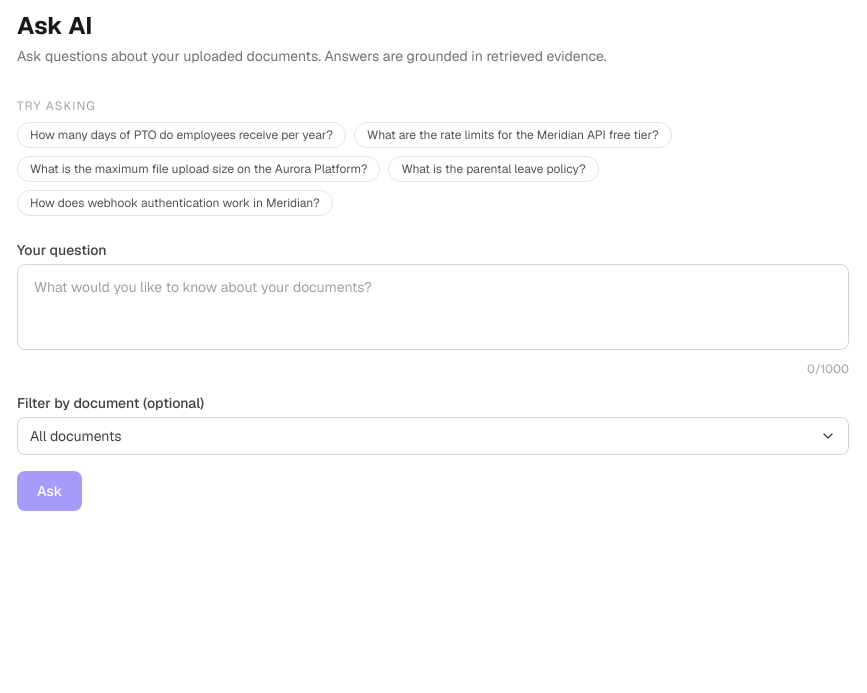
Scenario: AskPage › renders answer text on successful response
Step 1. Type "What is the meaning of life?" into the text box with placeholder "What would you like to know about your documents?" → (433, 307), box [17,264,849,350]
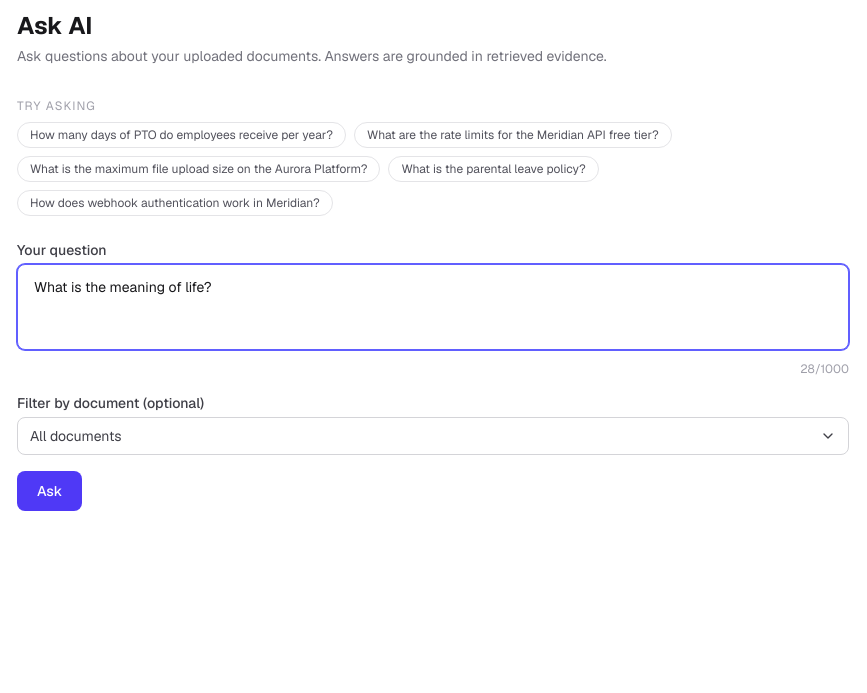
Step 2. Click the button "Ask" → (50, 491), box [17,471,82,511]
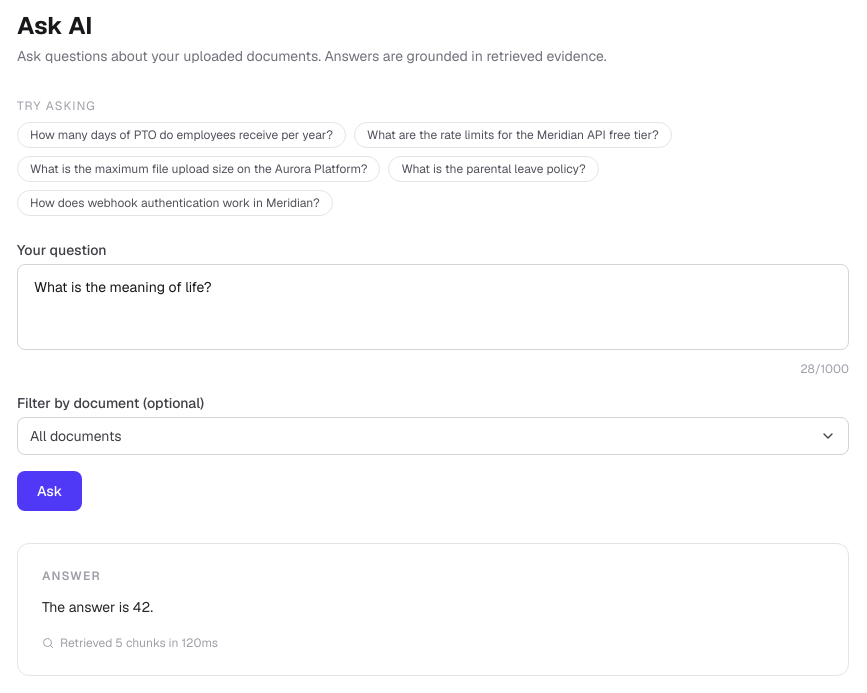
Check: the text "The answer is 42." is shown, box [42,598,153,616]
